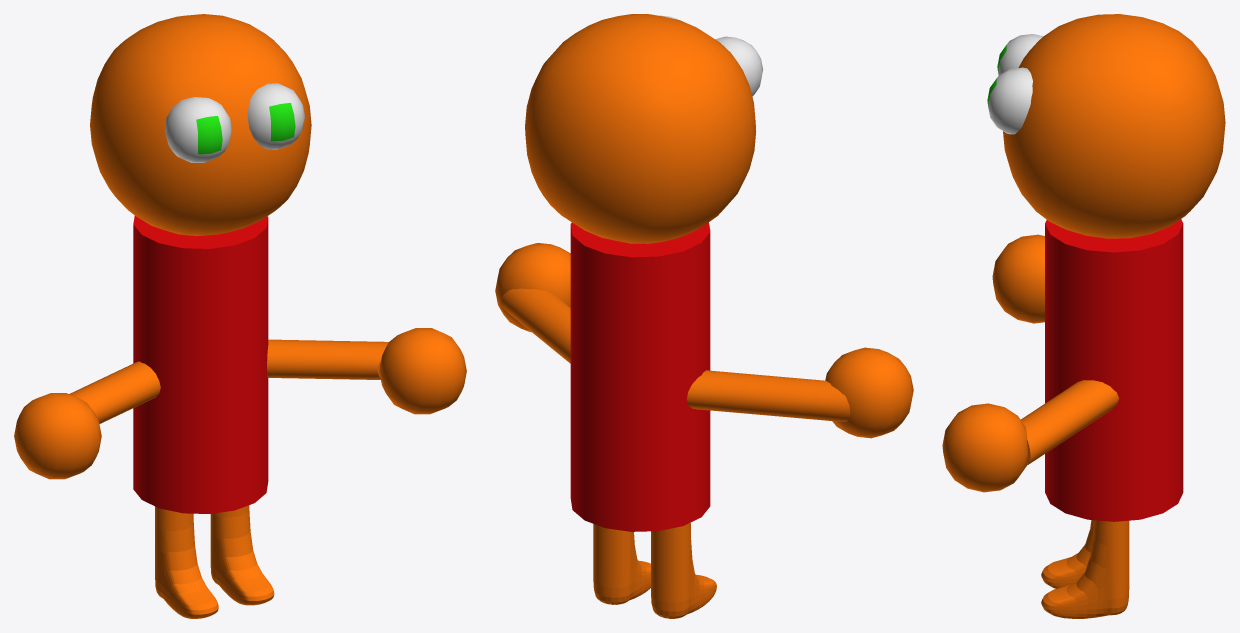
Rendered from NPC.fbx.
3 renders of one model, left to right at view 1: azimuth 30°, elevation 25°; view 2: azimuth 150°, elevation 25°; view 3: azimuth 270°, elevation 25°, orthographic. The views are drawn at different scales.
Visible parts, largest first — view 1: Body, Head, Cylinder, Cylinder.001, Eyes; view 2: Head, Body, Cylinder, Cylinder.001, Eyes; view 3: Head, Body, Cylinder, Cylinder.001, Eyes.
Part boxes in pixels (x1=…): Body: x1=133, y1=215, x2=268, y2=513; Head: x1=90, y1=14, x2=311, y2=235; Cylinder: x1=14, y1=328, x2=466, y2=479; Cylinder.001: x1=155, y1=505, x2=274, y2=618; Eyes: x1=165, y1=83, x2=304, y2=162; Head: x1=525, y1=14, x2=756, y2=243; Body: x1=570, y1=222, x2=710, y2=531; Cylinder: x1=495, y1=243, x2=913, y2=438; Cylinder.001: x1=593, y1=522, x2=716, y2=618; Eyes: x1=659, y1=15, x2=763, y2=96; Head: x1=1003, y1=14, x2=1225, y2=238; Body: x1=1045, y1=219, x2=1183, y2=521; Cylinder: x1=942, y1=234, x2=1118, y2=492; Cylinder.001: x1=1041, y1=520, x2=1129, y2=618; Eyes: x1=987, y1=34, x2=1042, y2=134.
Size of the model in its own units: 217 by 282 by 126.
